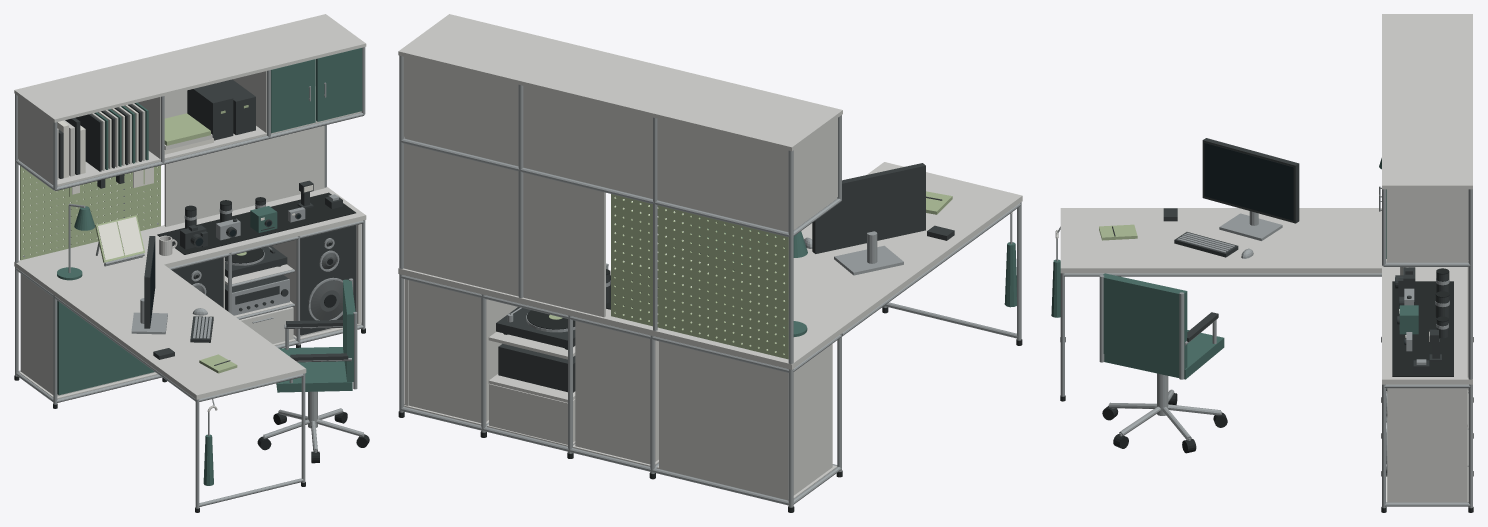
Rendered from workstation-graybox-v001.glb.
3 views of the same model, side by side, from view 1: azimuth 30°, elevation 25°; view 2: azimuth 150°, elevation 25°; view 3: azimuth 270°, elevation 25° (orthographic). The views are drawn at different scales.
Visible parts, largest first — view 1: Return_Desktop_28mm, Upper_Top, Rear_Right_Backing, Pegboard_Perforated_21x14, Rear_Counter_28mm, Corner_Undercounter_Door, Rear_Tube_Frame_22mm, Record_Sleeves_Upper, Upper_Tube_Frame_22mm, Corner_Undercounter_Cabinet, Speaker_Right_Baffle, Upper_Cabinet_Door_Right (+34 smaller); view 2: Upper_Back, Rear_Right_Backing, Upper_Top, Corner_Undercounter_Cabinet, Pegboard_Perforated_21x14, Return_Desktop_28mm, Speaker_Right_Cabinet, Speaker_Left_Cabinet, Rear_Tube_Frame_22mm, Upper_Tube_Frame_22mm, HOTSPOT_monitor, Rear_Counter_28mm (+10 smaller); view 3: Return_Desktop_28mm, Upper_Top, Rear_Right_End_Panel, Chair_Back, Upper_Divider_04, Monitor_Screen, Rear_Counter_28mm, HOTSPOT_camera_group, Chair_Metal_Frame, Rear_Tube_Frame_22mm, Return_Tube_Frame_22mm, Chair_Seat (+7 smaller).
Part boxes in pixels (bbox=[...]): Return_Desktop_28mm: bbox=[54, 264, 306, 399]; Upper_Top: bbox=[14, 14, 366, 122]; Rear_Right_Backing: bbox=[164, 125, 324, 226]; Pegboard_Perforated_21x14: bbox=[20, 165, 160, 260]; Rear_Counter_28mm: bbox=[14, 187, 366, 295]; Corner_Undercounter_Door: bbox=[57, 300, 154, 395]; Rear_Tube_Frame_22mm: bbox=[14, 220, 365, 408]; Record_Sleeves_Upper: bbox=[75, 102, 148, 171]; Upper_Tube_Frame_22mm: bbox=[15, 47, 365, 262]; Corner_Undercounter_Cabinet: bbox=[20, 274, 155, 396]; Speaker_Right_Baffle: bbox=[300, 225, 356, 335]; Upper_Cabinet_Door_Right: bbox=[316, 48, 362, 121]; Upper_Back: bbox=[403, 57, 788, 230]; Rear_Right_Backing: bbox=[404, 143, 605, 317]; Upper_Top: bbox=[398, 14, 842, 151]; Corner_Undercounter_Cabinet: bbox=[659, 341, 832, 499]; Pegboard_Perforated_21x14: bbox=[611, 194, 788, 359]; Return_Desktop_28mm: bbox=[734, 162, 1022, 332]; Speaker_Right_Cabinet: bbox=[408, 280, 517, 422]; Speaker_Left_Cabinet: bbox=[575, 321, 658, 464]; Rear_Tube_Frame_22mm: bbox=[398, 274, 842, 512]; Upper_Tube_Frame_22mm: bbox=[399, 55, 841, 363]; HOTSPOT_monitor: bbox=[812, 163, 925, 253]; Rear_Counter_28mm: bbox=[398, 268, 842, 369]; Return_Desktop_28mm: bbox=[1060, 208, 1381, 273]; Upper_Top: bbox=[1382, 14, 1472, 189]; Rear_Right_End_Panel: bbox=[1387, 388, 1467, 501]; Chair_Back: bbox=[1103, 273, 1187, 369]; Upper_Divider_04: bbox=[1386, 189, 1467, 260]; Monitor_Screen: bbox=[1204, 143, 1293, 220]; Rear_Counter_28mm: bbox=[1382, 259, 1472, 384]; HOTSPOT_camera_group: bbox=[1392, 281, 1453, 376]; Chair_Metal_Frame: bbox=[1099, 275, 1221, 440]; Rear_Tube_Frame_22mm: bbox=[1381, 337, 1473, 512]; Return_Tube_Frame_22mm: bbox=[1060, 273, 1381, 401]; Chair_Seat: bbox=[1104, 330, 1224, 379].
Bounding box in the file's own units: 2.06 × 1.82 × 2.13.
